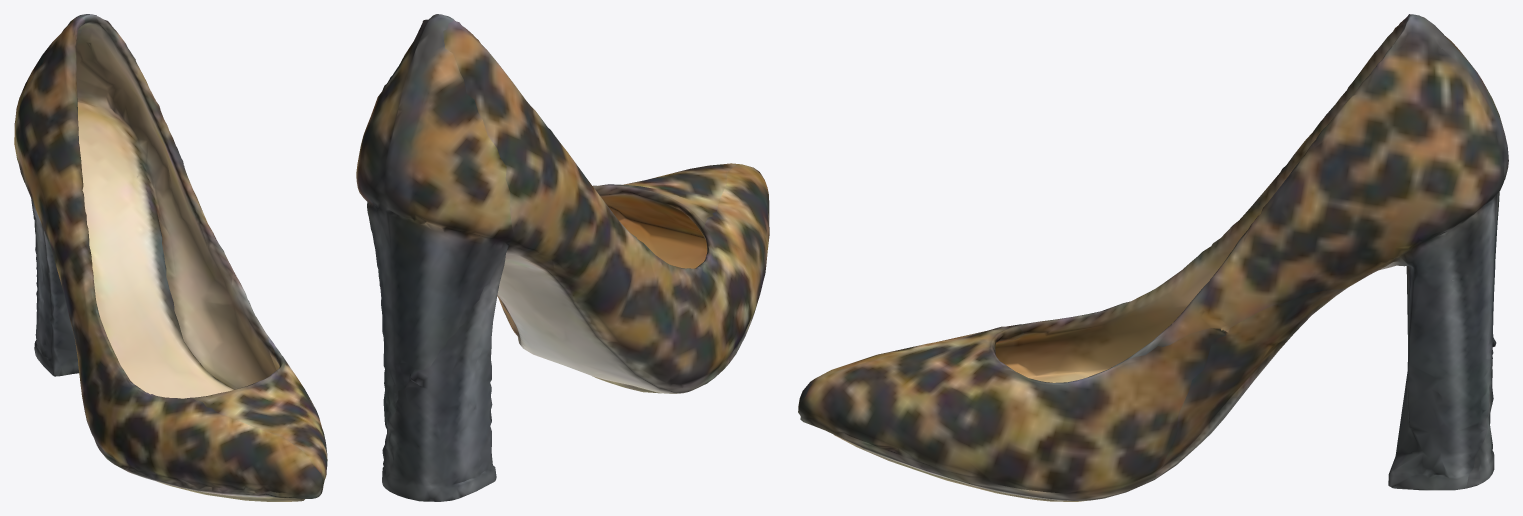
File: Chelsea_BlkHeelPMP_DwxLtZNxLZZ-high.glb
3 renders of one model, left to right at view 1: azimuth 30°, elevation 25°; view 2: azimuth 150°, elevation 25°; view 3: azimuth 270°, elevation 25°, orthographic. The views are drawn at different scales.
Visible parts, largest first — view 1: Chelsea_BlkHeelPMP_DwxLtZNxLZZ; view 2: Chelsea_BlkHeelPMP_DwxLtZNxLZZ; view 3: Chelsea_BlkHeelPMP_DwxLtZNxLZZ.
Boxes of the visible parts, x1,y1,x2,y2 form: Chelsea_BlkHeelPMP_DwxLtZNxLZZ: (14, 14, 327, 501); Chelsea_BlkHeelPMP_DwxLtZNxLZZ: (356, 14, 769, 501); Chelsea_BlkHeelPMP_DwxLtZNxLZZ: (798, 14, 1508, 501).
Size of the model in its own units: 0.0859 by 0.1716 by 0.2408.
1 material, 1 textured.
